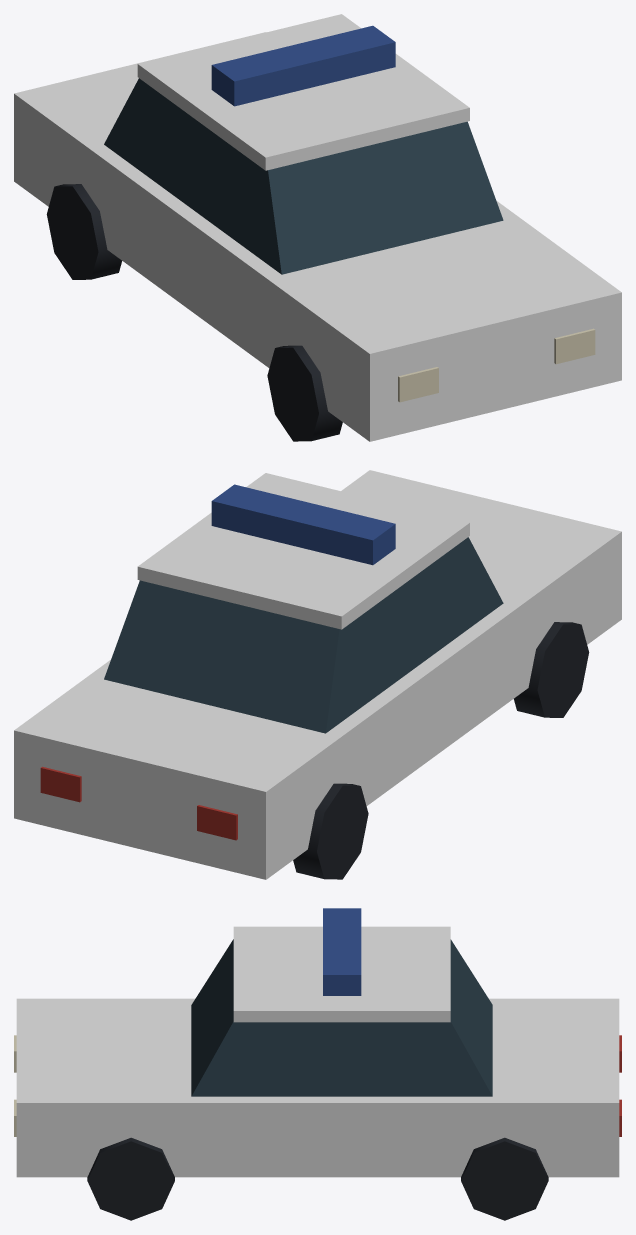
The model's file is veh_police_1.08d4eca68fea.glb.
3 views of the same model, one above another, from view 1: azimuth 30°, elevation 25°; view 2: azimuth 150°, elevation 25°; view 3: azimuth 270°, elevation 25° (orthographic). The views are drawn at different scales.
Visible parts, largest first — view 1: LOD0; view 2: LOD0; view 3: LOD0.
Boxes of the visible parts, left/top/right/bottom form: LOD0: left=14, top=14, right=621, bottom=441; LOD0: left=14, top=470, right=621, bottom=879; LOD0: left=14, top=908, right=621, bottom=1220.
Size of what is drawn, in the model's own units: 1.93 by 1.8 by 4.44.
